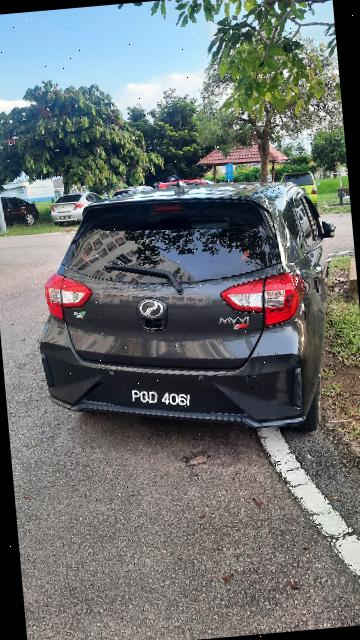License_Plate: (112, 367, 222, 426)
car: (27, 174, 360, 458)
